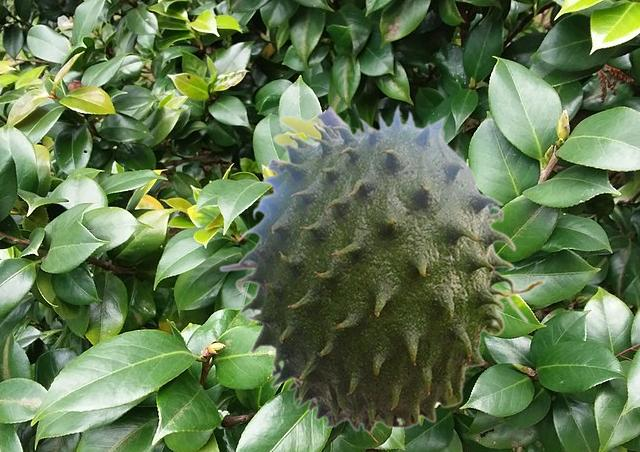guyabano: (218, 102, 545, 434)
